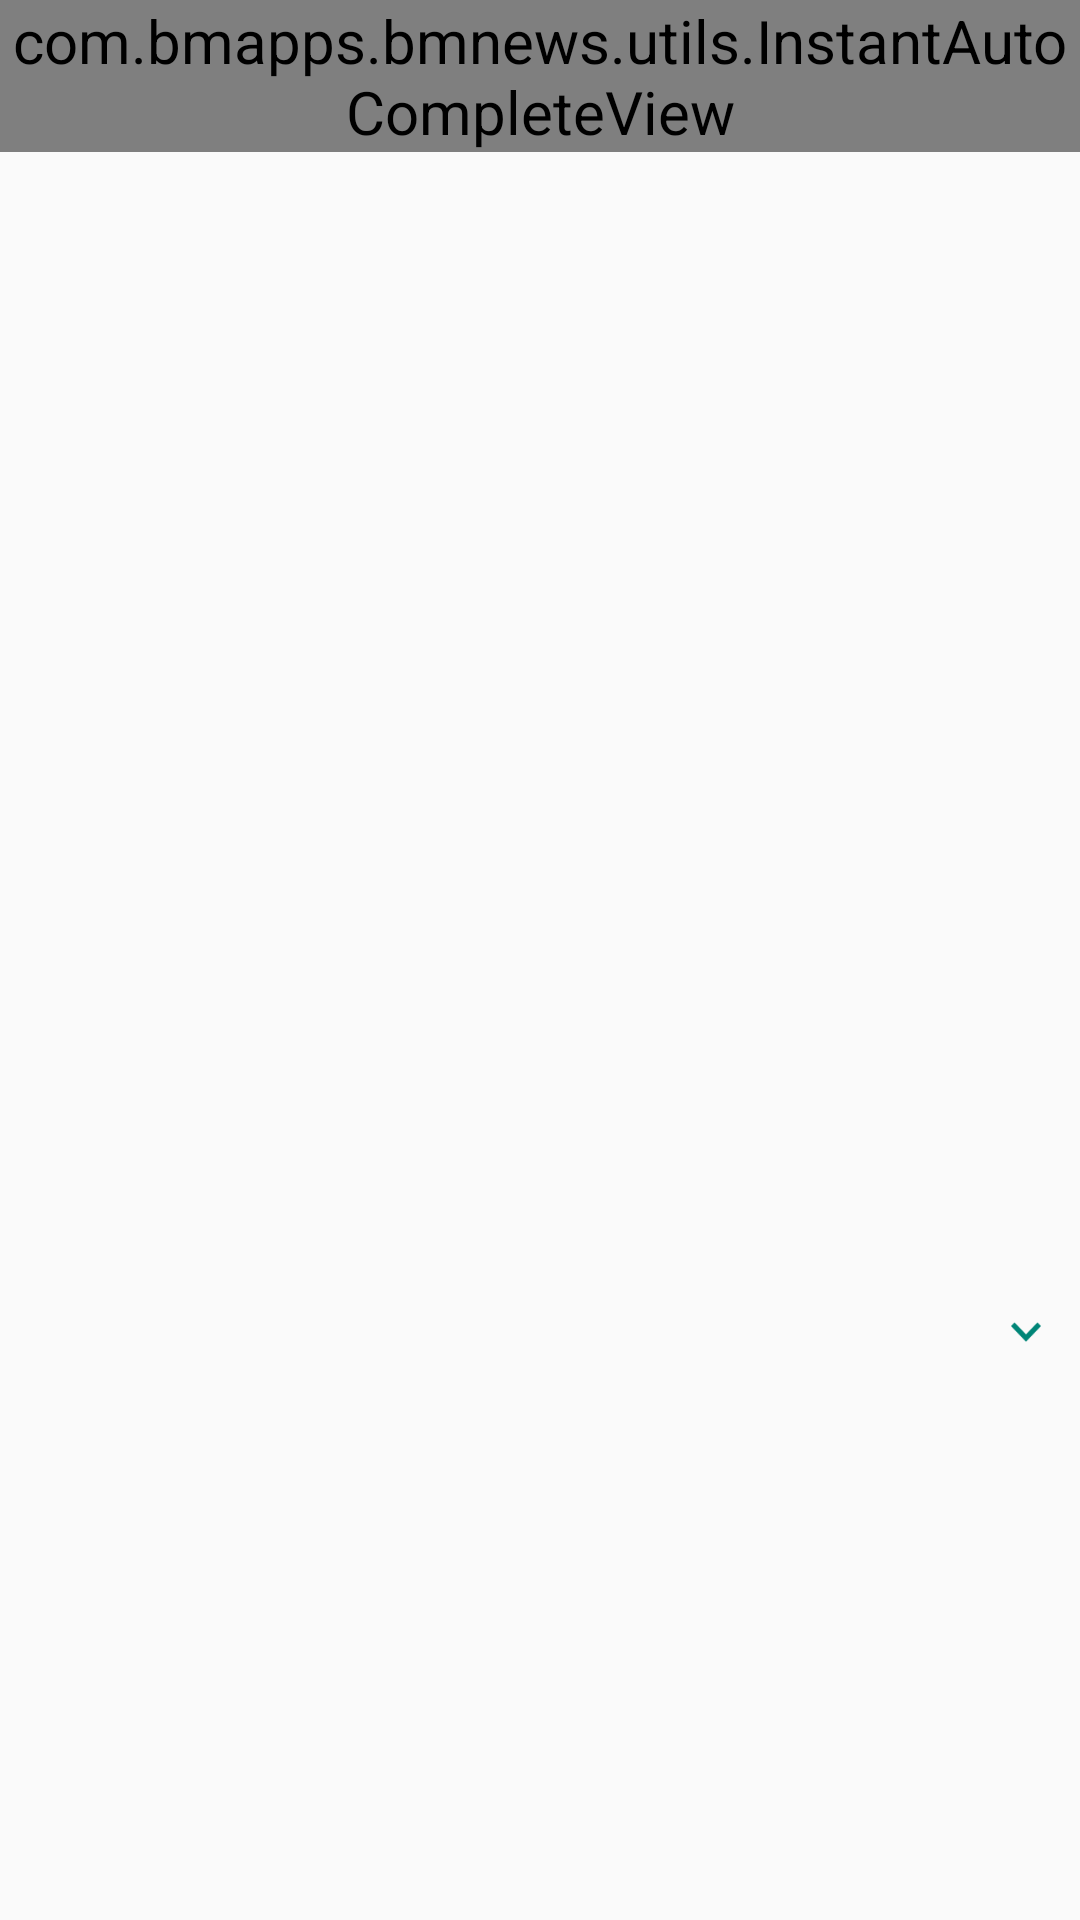

Icon bounding boxes for this 1080px x 1920px phone screenshot, format box=[x1, y1, x2, y2]:
arrow down: box=[1011, 1322, 1041, 1342]
